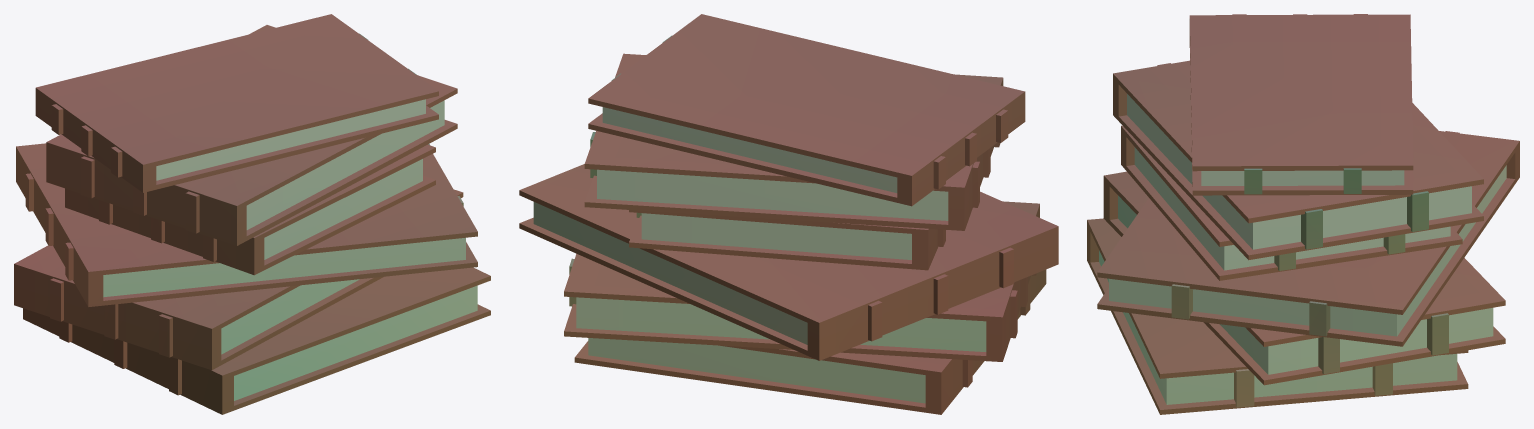
The model's file is book_stack.glb.
3 views of the same model, side by side, from view 1: azimuth 30°, elevation 25°; view 2: azimuth 150°, elevation 25°; view 3: azimuth 270°, elevation 25° (orthographic). The views are drawn at different scales.
Visible parts, largest first — view 1: books, book_pages; view 2: books, book_pages; view 3: books, book_pages, book_clasps.
Boxes of the visible parts, x1,y1,x2,y2 form: books: (14,14,490,414); book_pages: (103,99,477,400); books: (519,14,1058,414); book_pages: (533,107,986,403); books: (1087,14,1519,414); book_pages: (1099,94,1506,404); book_clasps: (1171,168,1448,407).
Size of the model in its own units: 0.5646 by 0.285 by 0.4852.
